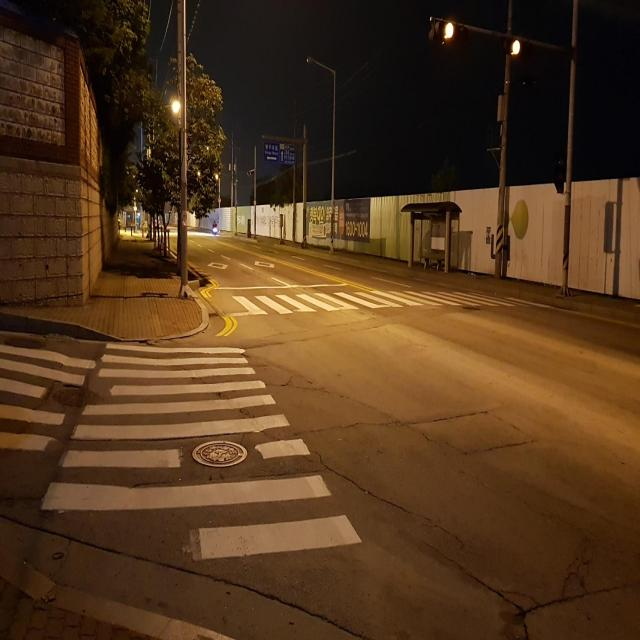횡단보도: (0, 339, 364, 564), (219, 275, 532, 318)
